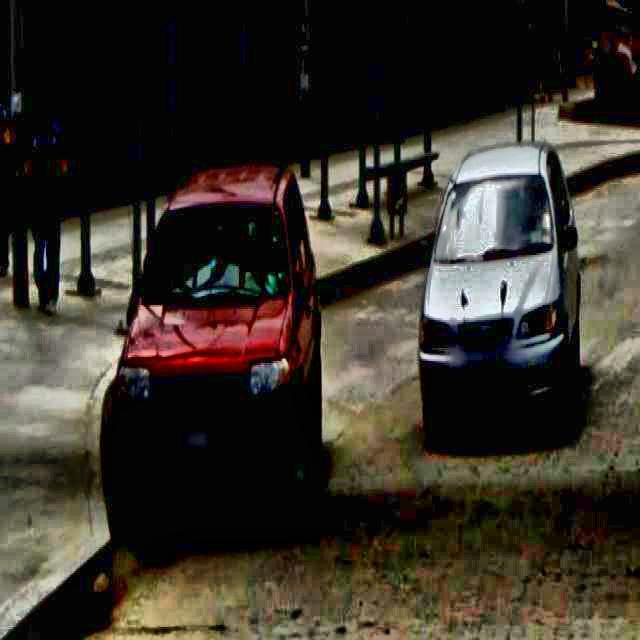carro: (114, 163, 329, 536)
